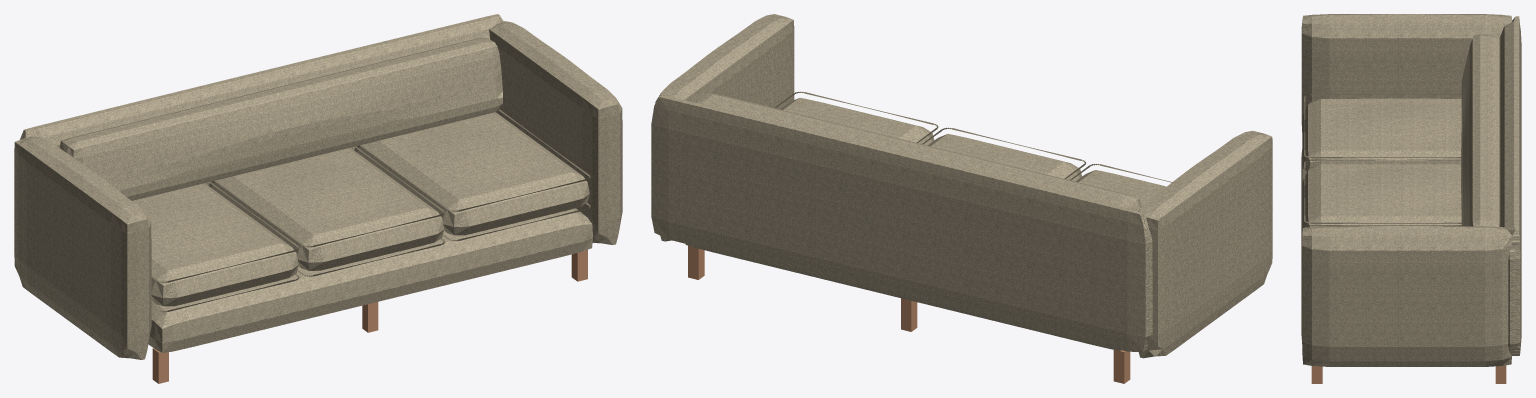
File: CAL-TUX-3-seat.glb
3 renders of one model, left to right at view 1: azimuth 30°, elevation 25°; view 2: azimuth 150°, elevation 25°; view 3: azimuth 270°, elevation 25°, orthographic. The views are drawn at different scales.
Parts seen in each view (by area): view 1: inside-back:fabric:eyJwcmVzZXQiOiJib3VjbGUiLCJ3YXJwIjoib2F0I, arm-pad-l:fabric:eyJwcmVzZXQiOiJib3VjbGUiLCJ3YXJwIjoib2F0Iiw, deck:fabric:eyJwcmVzZXQiOiJib3VjbGUiLCJ3YXJwIjoib2F0Iiwid2Vm, seat-3:fabric:eyJwcmVzZXQiOiJib3VjbGUiLCJ3YXJwIjoib2F0Iiwid2, seat-2:fabric:eyJwcmVzZXQiOiJib3VjbGUiLCJ3YXJwIjoib2F0Iiwid2, arm-pad-r:fabric:eyJwcmVzZXQiOiJib3VjbGUiLCJ3YXJwIjoib2F0Iiw, seat-1:fabric:eyJwcmVzZXQiOiJib3VjbGUiLCJ3YXJwIjoib2F0Iiwid2, back-pad:fabric:eyJwcmVzZXQiOiJib3VjbGUiLCJ3YXJwIjoib2F0Iiwi, seat-2:piping:pbr, seat-3:piping:pbr, seat-1:piping:pbr, leg-fl:pbr; view 2: back-pad:fabric:eyJwcmVzZXQiOiJib3VjbGUiLCJ3YXJwIjoib2F0Iiwi, arm-pad-l:fabric:eyJwcmVzZXQiOiJib3VjbGUiLCJ3YXJwIjoib2F0Iiw, arm-pad-r:fabric:eyJwcmVzZXQiOiJib3VjbGUiLCJ3YXJwIjoib2F0Iiw, inside-back:fabric:eyJwcmVzZXQiOiJib3VjbGUiLCJ3YXJwIjoib2F0I, seat-3:fabric:eyJwcmVzZXQiOiJib3VjbGUiLCJ3YXJwIjoib2F0Iiwid2, seat-2:fabric:eyJwcmVzZXQiOiJib3VjbGUiLCJ3YXJwIjoib2F0Iiwid2, seat-1:fabric:eyJwcmVzZXQiOiJib3VjbGUiLCJ3YXJwIjoib2F0Iiwid2, deck:fabric:eyJwcmVzZXQiOiJib3VjbGUiLCJ3YXJwIjoib2F0Iiwid2Vm, leg-bl:pbr, leg-br:pbr, leg-cb:pbr; view 3: arm-pad-r:fabric:eyJwcmVzZXQiOiJib3VjbGUiLCJ3YXJwIjoib2F0Iiw, arm-pad-l:fabric:eyJwcmVzZXQiOiJib3VjbGUiLCJ3YXJwIjoib2F0Iiw, seat-1:fabric:eyJwcmVzZXQiOiJib3VjbGUiLCJ3YXJwIjoib2F0Iiwid2, seat-2:fabric:eyJwcmVzZXQiOiJib3VjbGUiLCJ3YXJwIjoib2F0Iiwid2, inside-back:fabric:eyJwcmVzZXQiOiJib3VjbGUiLCJ3YXJwIjoib2F0I, back-pad:fabric:eyJwcmVzZXQiOiJib3VjbGUiLCJ3YXJwIjoib2F0Iiwi, seat-2:piping:pbr, seat-1:piping:pbr, deck:fabric:eyJwcmVzZXQiOiJib3VjbGUiLCJ3YXJwIjoib2F0Iiwid2Vm, seat-3:piping:pbr, leg-br:pbr, leg-fr:pbr.
Boxes of the visible parts, x1,y1,x2,y2 form: inside-back:fabric:eyJwcmVzZXQiOiJib3VjbGUiLCJ3YXJwIjoib2F0I: (60, 37, 502, 200); arm-pad-l:fabric:eyJwcmVzZXQiOiJib3VjbGUiLCJ3YXJwIjoib2F0Iiw: (14, 136, 151, 359); deck:fabric:eyJwcmVzZXQiOiJib3VjbGUiLCJ3YXJwIjoib2F0Iiwid2Vm: (148, 208, 592, 352); seat-3:fabric:eyJwcmVzZXQiOiJib3VjbGUiLCJ3YXJwIjoib2F0Iiwid2: (354, 112, 589, 235); seat-2:fabric:eyJwcmVzZXQiOiJib3VjbGUiLCJ3YXJwIjoib2F0Iiwid2: (209, 148, 444, 270); arm-pad-r:fabric:eyJwcmVzZXQiOiJib3VjbGUiLCJ3YXJwIjoib2F0Iiw: (489, 21, 622, 244); seat-1:fabric:eyJwcmVzZXQiOiJib3VjbGUiLCJ3YXJwIjoib2F0Iiwid2: (132, 183, 298, 306); back-pad:fabric:eyJwcmVzZXQiOiJib3VjbGUiLCJ3YXJwIjoib2F0Iiwi: (20, 14, 503, 185); seat-2:piping:pbr: (214, 146, 445, 276); seat-3:piping:pbr: (360, 109, 590, 241); seat-1:piping:pbr: (151, 182, 299, 312); leg-fl:pbr: (152, 348, 168, 383); back-pad:fabric:eyJwcmVzZXQiOiJib3VjbGUiLCJ3YXJwIjoib2F0Iiwi: (651, 95, 1152, 351); arm-pad-l:fabric:eyJwcmVzZXQiOiJib3VjbGUiLCJ3YXJwIjoib2F0Iiw: (1138, 130, 1272, 358); arm-pad-r:fabric:eyJwcmVzZXQiOiJib3VjbGUiLCJ3YXJwIjoib2F0Iiw: (655, 14, 794, 241); inside-back:fabric:eyJwcmVzZXQiOiJib3VjbGUiLCJ3YXJwIjoib2F0I: (697, 93, 1141, 211); seat-3:fabric:eyJwcmVzZXQiOiJib3VjbGUiLCJ3YXJwIjoib2F0Iiwid2: (780, 98, 934, 145); seat-2:fabric:eyJwcmVzZXQiOiJib3VjbGUiLCJ3YXJwIjoib2F0Iiwid2: (928, 134, 1082, 181); seat-1:fabric:eyJwcmVzZXQiOiJib3VjbGUiLCJ3YXJwIjoib2F0Iiwid2: (1075, 170, 1166, 206); deck:fabric:eyJwcmVzZXQiOiJib3VjbGUiLCJ3YXJwIjoib2F0Iiwid2Vm: (685, 244, 1121, 350); leg-bl:pbr: (1113, 350, 1130, 383); leg-br:pbr: (688, 245, 704, 279); leg-cb:pbr: (901, 298, 917, 331); arm-pad-r:fabric:eyJwcmVzZXQiOiJib3VjbGUiLCJ3YXJwIjoib2F0Iiw: (1301, 226, 1512, 366); arm-pad-l:fabric:eyJwcmVzZXQiOiJib3VjbGUiLCJ3YXJwIjoib2F0Iiw: (1301, 14, 1511, 131); seat-1:fabric:eyJwcmVzZXQiOiJib3VjbGUiLCJ3YXJwIjoib2F0Iiwid2: (1302, 98, 1461, 173); seat-2:fabric:eyJwcmVzZXQiOiJib3VjbGUiLCJ3YXJwIjoib2F0Iiwid2: (1302, 164, 1461, 231); inside-back:fabric:eyJwcmVzZXQiOiJib3VjbGUiLCJ3YXJwIjoib2F0I: (1461, 34, 1500, 226); back-pad:fabric:eyJwcmVzZXQiOiJib3VjbGUiLCJ3YXJwIjoib2F0Iiwi: (1500, 16, 1521, 355); seat-2:piping:pbr: (1304, 159, 1461, 223); seat-1:piping:pbr: (1304, 93, 1461, 178); deck:fabric:eyJwcmVzZXQiOiJib3VjbGUiLCJ3YXJwIjoib2F0Iiwid2Vm: (1301, 149, 1305, 339); seat-3:piping:pbr: (1304, 225, 1461, 227); leg-br:pbr: (1495, 365, 1506, 383); leg-fr:pbr: (1311, 366, 1322, 383).
Bounding box in the file's own units: 2.2 × 0.74 × 0.9.
Materials: 17 (8 with a texture image).
